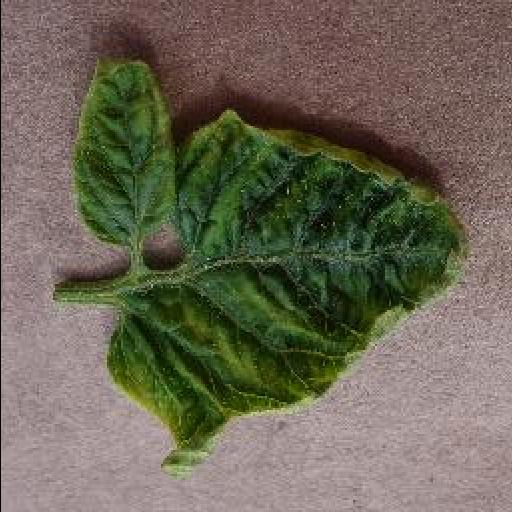disease_tomato: (105, 112, 467, 474), (72, 54, 178, 242)
